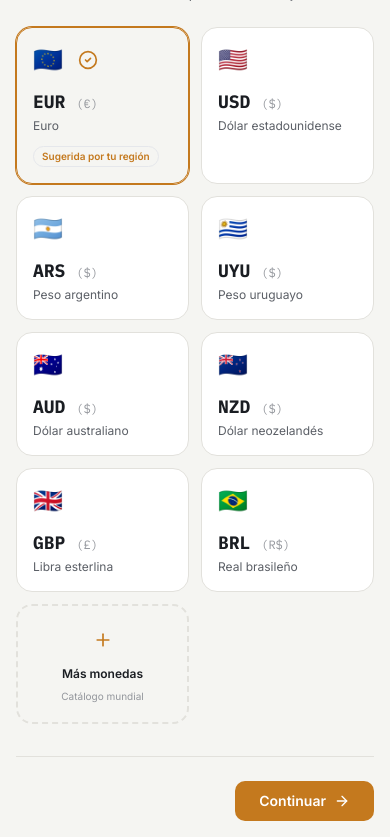
WelcomeWizard › no incluye la opción de inversión en el selector de tipo de cuenta
This screenshot has width=390, height=837.
(page scrolled)
Click the button "Continuar" at coordinates (305, 801), box [235,781,374,821]
(page scrolled)
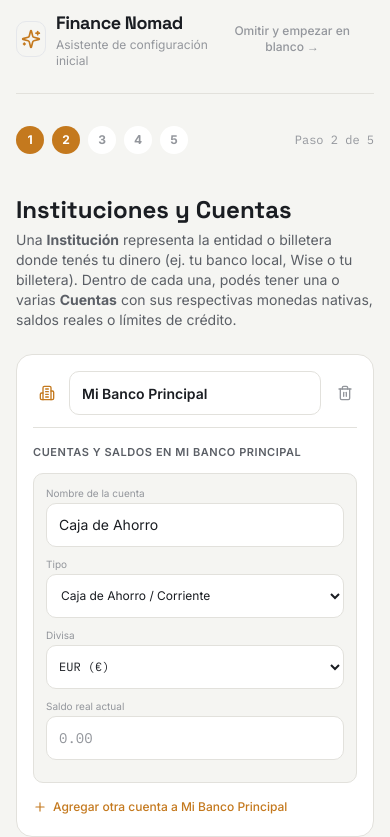
Now the heading "Instituciones y Cuentas" is shown, box [16,194,292,225]
